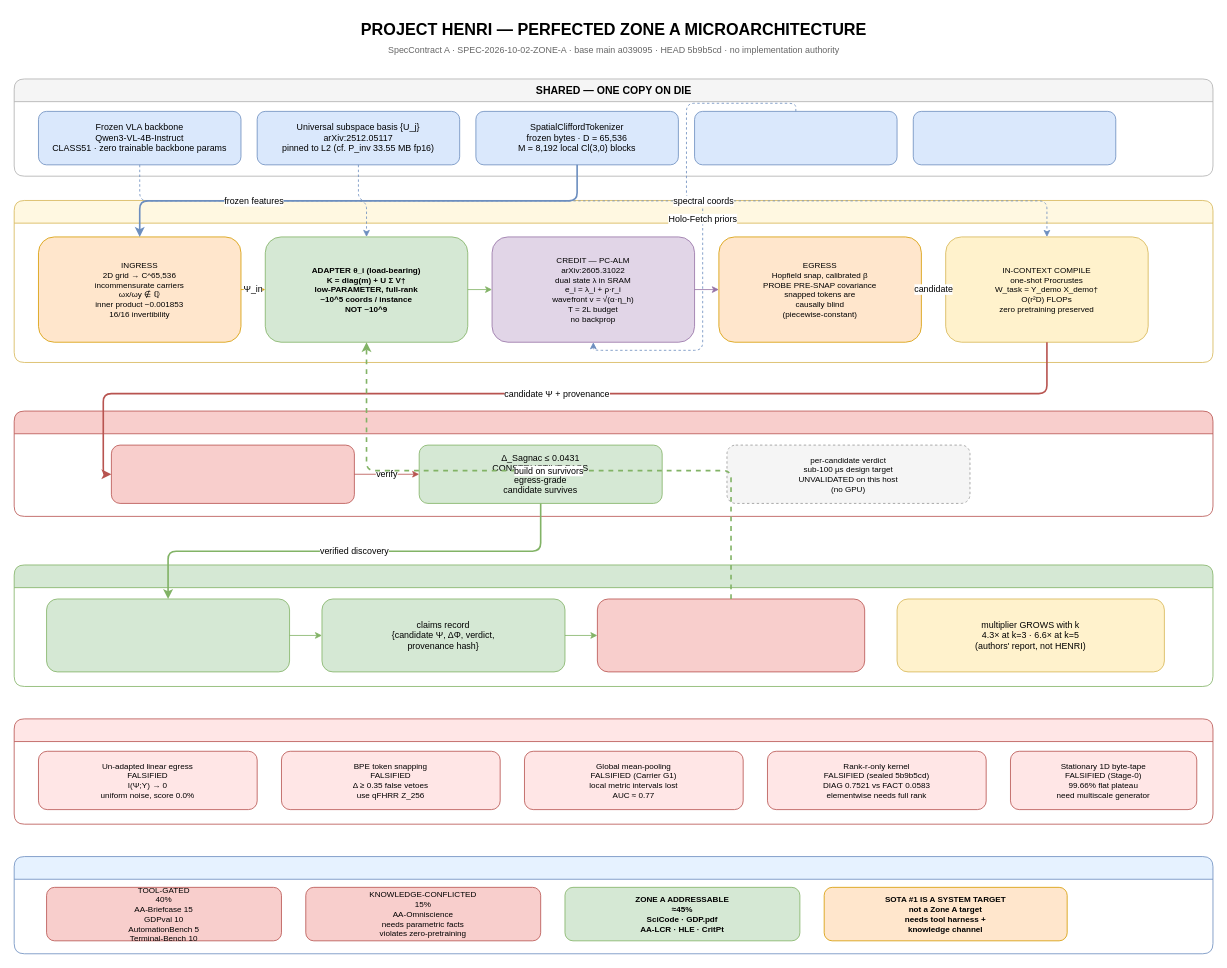
Some shapes in this 1227 by 968 pixel diagram are drawn without their labels. Each missing label, with the box of its shape:
AAII v4.3 — HONEST SCOPE (DERIVED; weights sum = 100): (13, 856, 1213, 954)
append-only DISCOVERIES ledger Zone C-backed no write collisions: (46, 598, 290, 672)
Calibrated Hopfield egress shared codebook never un-adapted linear: (912, 111, 1116, 165)
CORPUS FALSIFICATIONS THAT CONSTRAIN THE DESIGN: (13, 718, 1213, 824)
HARD RULE adopt a peer result ONLY after own Zone B re-verify NEVER on consensus: (597, 598, 865, 672)
SWARM FABRIC — VERIFIED PROGRESS SHARING (arXiv:2609.21032): (13, 564, 1213, 686)
ZONE A LEAF CELL ×N (N ∈ [100, 2000]) — lean, hyperfocused, disposable: (13, 200, 1213, 362)
ZONE B — DIFFRACTIVE + SAGNAC HOMODYNE VERIFIER (the asset): (13, 410, 1213, 516)
Zone C holographic cache 2.0 ms retrieval budget δ-mem ≤128 KB, <15 µs: (694, 111, 897, 165)
Δ_Sagnac > 0.35 DARK-PORT VETO search-time prune energy → thermal sink: (111, 444, 354, 503)
